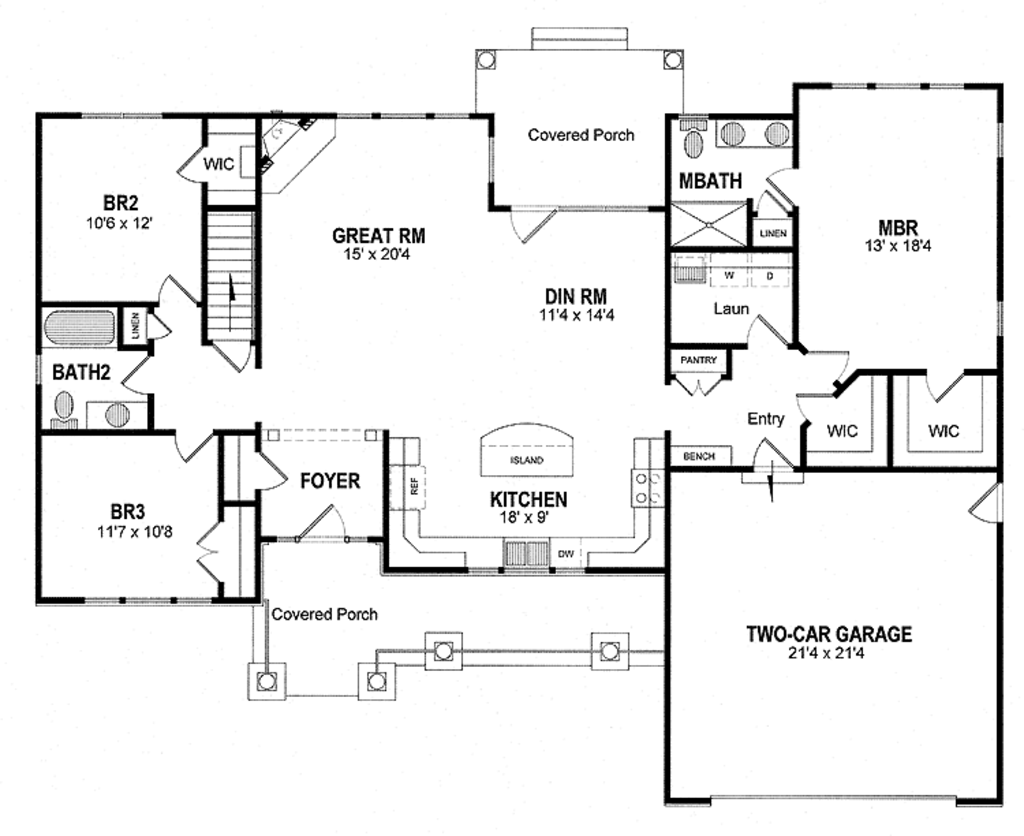door: (742, 437, 808, 485), (190, 517, 233, 588), (506, 204, 558, 246), (765, 162, 806, 213), (296, 502, 350, 540), (154, 267, 199, 310), (966, 481, 1008, 526), (204, 341, 256, 376), (174, 428, 220, 462), (171, 144, 212, 182), (922, 365, 959, 403), (123, 355, 155, 398), (746, 315, 783, 348), (813, 345, 845, 383), (256, 453, 284, 494), (677, 374, 725, 396)
kitchen_bar: (447, 414, 587, 486)
large_sink: (35, 381, 84, 431), (677, 114, 712, 164)
small_sink: (715, 113, 797, 152), (90, 400, 147, 429)
stairs: (198, 205, 264, 346)
tub: (36, 293, 127, 352)
twin_sink: (480, 529, 570, 571)
window: (77, 108, 160, 123), (989, 115, 1012, 162), (994, 298, 1008, 340)
